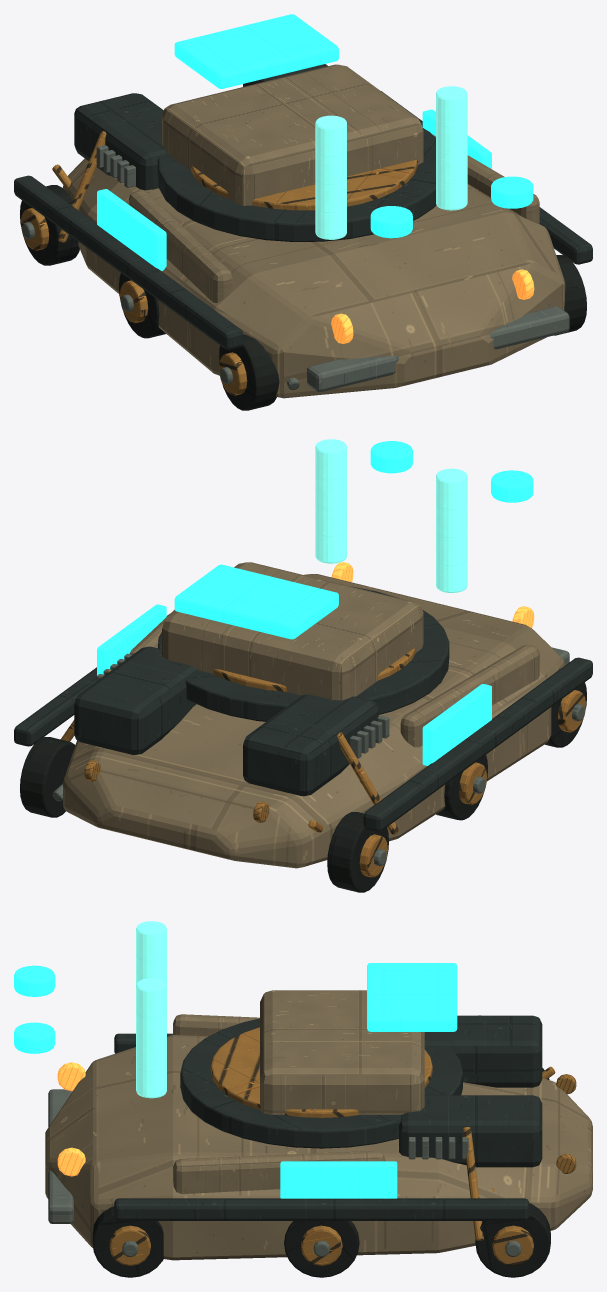
Rendered from drift_lancer.glb.
3 views of the same model, one above another, from view 1: azimuth 30°, elevation 25°; view 2: azimuth 150°, elevation 25°; view 3: azimuth 270°, elevation 25° (orthographic). The views are drawn at different scales.
Parts seen in each view (by area): view 1: Wanderpakt · low angular field chassis, Raised armored traversing turret, Faction detail · Vehicle / dark.004, Independent traverse race, TeamColor, Faction detail · Vehicle / rubber.004, Faction detail · Vehicle / steel.004, Faction detail · Vehicle / armor_light.004, Twin photon lance.001, Twin photon lance, TeamColor flank details.001, Indexed azimuth bearing (+3 smaller); view 2: Wanderpakt · low angular field chassis, Faction detail · Vehicle / dark.004, Raised armored traversing turret, Faction detail · Vehicle / rubber.004, TeamColor, Independent traverse race, TeamColor flank details.001, Faction detail · Vehicle / armor_light.004, Twin photon lance.001, Twin photon lance, Faction detail · Vehicle / hazard.004, TeamColor flank details (+3 smaller); view 3: Wanderpakt · low angular field chassis, Faction detail · Vehicle / dark.004, Raised armored traversing turret, Independent traverse race, Faction detail · Vehicle / rubber.004, TeamColor, Faction detail · Vehicle / armor_light.004, TeamColor flank details.001, Faction detail · Vehicle / hazard.004, Indexed azimuth bearing, Twin photon lance.001, Faction detail · Vehicle / steel.004 (+4 smaller).
Boxes of the visible parts, x1,y1,x2,y2 form: Wanderpakt · low angular field chassis: (63,158,565,398); Raised armored traversing turret: (162,64,423,205); Faction detail · Vehicle / dark.004: (14,64,592,349); Independent traverse race: (157,128,436,241); TeamColor: (174,14,338,88); Faction detail · Vehicle / rubber.004: (20,185,586,410); Faction detail · Vehicle / steel.004: (22,145,569,392); Faction detail · Vehicle / armor_light.004: (129,134,539,302); Twin photon lance.001: (436,86,467,210); Twin photon lance: (315,115,346,239); TeamColor flank details.001: (97,109,491,270); Indexed azimuth bearing: (191,160,417,210); Wanderpakt · low angular field chassis: (63,574,564,868); Faction detail · Vehicle / dark.004: (14,614,592,831); Raised armored traversing turret: (162,562,423,700); Faction detail · Vehicle / rubber.004: (20,669,586,892); TeamColor: (174,564,338,639); Independent traverse race: (158,586,449,721); TeamColor flank details.001: (97,604,491,765); Faction detail · Vehicle / armor_light.004: (129,609,539,747); Twin photon lance.001: (315,439,346,563); Twin photon lance: (436,468,467,592); Faction detail · Vehicle / hazard.004: (60,670,585,877); TeamColor flank details: (370,441,533,502); Wanderpakt · low angular field chassis: (45,1035,592,1260); Faction detail · Vehicle / dark.004: (114,1015,542,1220); Raised armored traversing turret: (260,990,424,1114); Independent traverse race: (180,1018,462,1148); Faction detail · Vehicle / rubber.004: (92,1068,550,1277); TeamColor: (367,963,457,1031); Faction detail · Vehicle / armor_light.004: (173,1014,385,1193); TeamColor flank details.001: (280,1161,397,1198); Faction detail · Vehicle / hazard.004: (109,1015,555,1265); Indexed azimuth bearing: (210,1027,432,1117); Twin photon lance.001: (136,978,166,1098); Faction detail · Vehicle / steel.004: (48,1089,521,1256).
Size of the model in its own units: 2.39 by 1.58 by 3.37.
10 materials, 10 textured.
